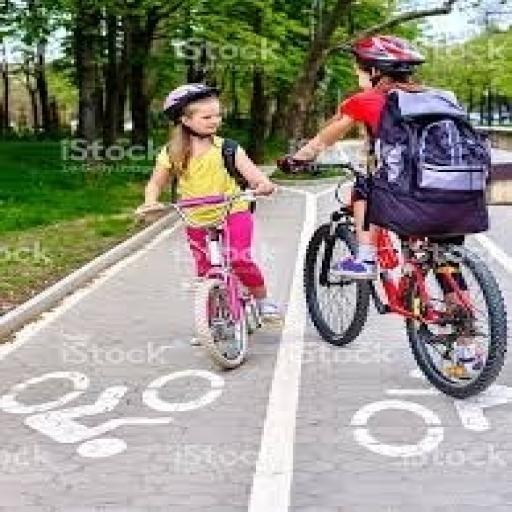cycling: (275, 32, 496, 374), (129, 81, 285, 350)
